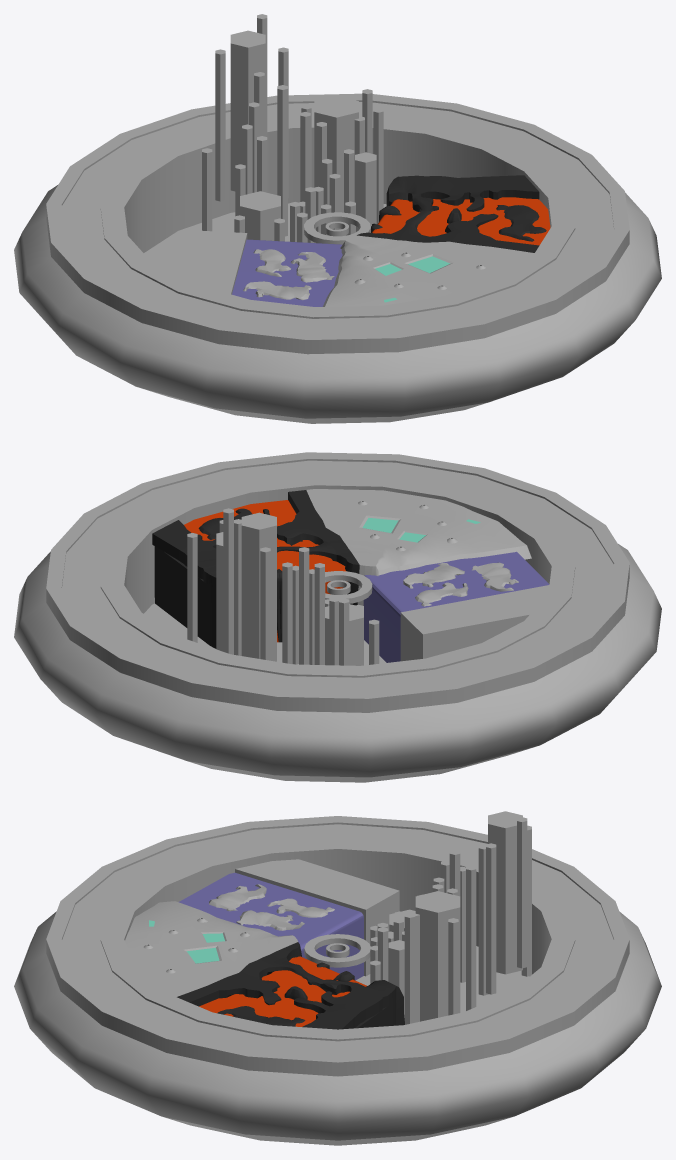
File: LevelIteration1.fbx
The picture shows the model from 3 angles, top to bottom: view 1: azimuth 30°, elevation 25°; view 2: azimuth 150°, elevation 25°; view 3: azimuth 270°, elevation 25°; orthographic projection.
Parts seen in each view (by area): view 1: pCylinder47, polySurface2, polySurface1, pCube1, pCube2, pCylinder39, pCube8, pCylinder17, pCylinder43, pCylinder41, pCylinder25, pCylinder42 (+14 smaller); view 2: pCylinder47, polySurface2, polySurface1, pCube8, pCube1, pCylinder39, pCube2, pCylinder38, pCylinder18, pCylinder41, pCylinder43, pCylinder21 (+15 smaller); view 3: pCylinder47, polySurface2, polySurface1, pCube1, pCube8, pCylinder17, pCylinder39, pCube2, pCylinder38, pCylinder40, pCylinder42, pPipe1 (+14 smaller).
Part boxes in pixels (x1,y1,x2,y2): pCylinder47: (14, 93, 661, 423); polySurface2: (323, 235, 534, 306); polySurface1: (357, 175, 539, 252); pCube1: (232, 239, 342, 306); pCube2: (372, 197, 550, 245); pCylinder39: (230, 30, 265, 191); pCube8: (179, 230, 247, 294); pCylinder17: (314, 95, 358, 229); pCylinder43: (240, 191, 280, 240); pCylinder41: (215, 49, 225, 201); pCylinder25: (355, 152, 376, 232); pCylinder42: (277, 85, 287, 236); pCylinder47: (14, 452, 661, 782); polySurface2: (306, 489, 531, 605); polySurface1: (152, 490, 359, 648); pCube8: (400, 585, 549, 661); pCube1: (363, 551, 549, 662); pCylinder39: (241, 512, 276, 661); pCube2: (184, 500, 346, 642); pCylinder38: (223, 508, 233, 654); pCylinder18: (299, 547, 309, 664); pCylinder41: (260, 547, 270, 660); pCylinder43: (325, 604, 363, 665); pCylinder21: (187, 533, 197, 642); pCylinder47: (14, 816, 661, 1145); polySurface2: (125, 901, 297, 996); polySurface1: (177, 942, 404, 1029); pCube1: (178, 872, 363, 980); pCube8: (235, 859, 399, 976); pCylinder17: (415, 891, 460, 1021); pCylinder39: (488, 811, 522, 974); pCube2: (199, 956, 366, 1026); pCylinder38: (517, 817, 527, 968); pCylinder40: (486, 843, 496, 994); pCylinder42: (466, 865, 476, 1010); pPipe1: (304, 934, 370, 967).
Size of the model in its own units: 108 by 41.91 by 108.
